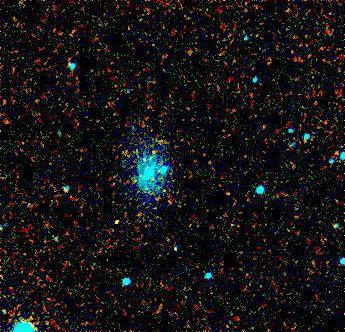star: (102, 209, 132, 239)
